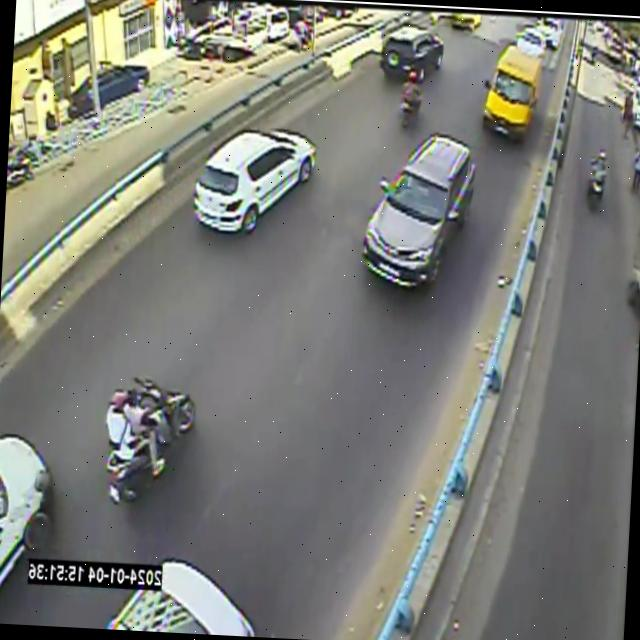car: (194, 129, 317, 232), (107, 560, 255, 636), (0, 436, 52, 587), (484, 45, 543, 138), (381, 26, 444, 83)
